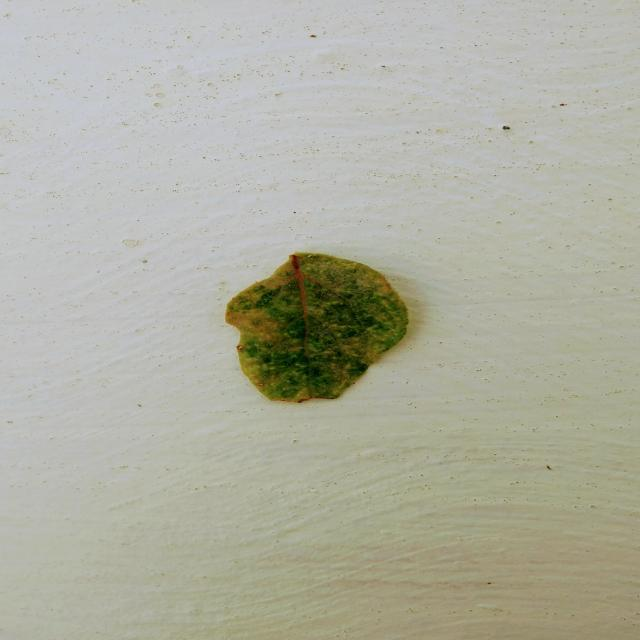leaf: (224, 250, 409, 403)
